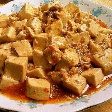mapodoufu: (1, 2, 112, 100)
